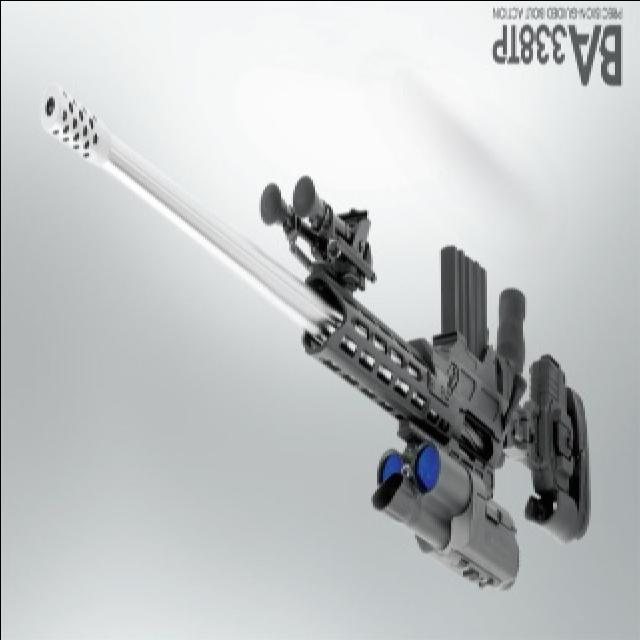rifle: (43, 86, 599, 594)
